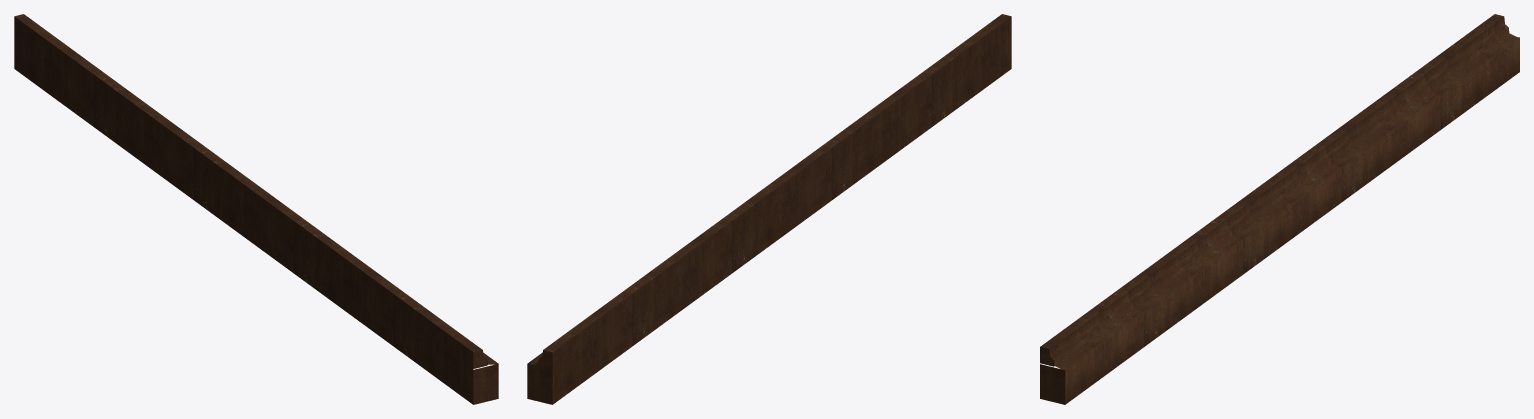
Rendered from souptrim001.glb.
3 renders of one model, left to right at view 1: azimuth 30°, elevation 25°; view 2: azimuth 150°, elevation 25°; view 3: azimuth 330°, elevation 25°, orthographic.
Parts seen in each view (by area): view 1: souptrim001_high_1; view 2: souptrim001_high_1; view 3: souptrim001_high_1.
Boxes of the visible parts, bbox=[...] form: souptrim001_high_1: bbox=[14, 14, 498, 404]; souptrim001_high_1: bbox=[527, 14, 1011, 404]; souptrim001_high_1: bbox=[1040, 14, 1519, 404].
Size of the model in its own units: 0.0861 by 0.1712 by 2.71.
1 material, 1 textured.
